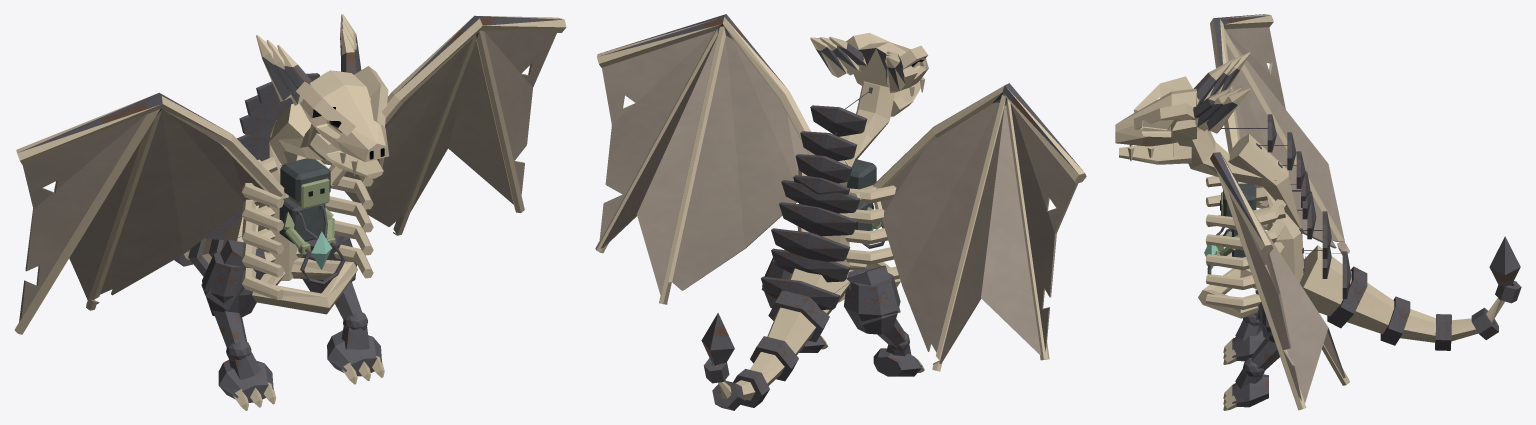
Rendered from host_40.glb.
The picture shows the model from 3 angles, left to right: view 1: azimuth 30°, elevation 25°; view 2: azimuth 150°, elevation 25°; view 3: azimuth 270°, elevation 25°; orthographic projection. The views are drawn at different scales.
Parts seen in each view (by area): view 1: ONE actual connected wyvern source anatomy TWO hind legs TWO, Source actual broad angular fitted thigh cap 1, ONE source necromancer compact connected tissue inside open , Necromancer real source dark hood, Necromancer inner source dark chest robe, Source ONE pale glowing chest-held crystal, Source actual transverse convex pointed neck armor 2, Source actual transverse convex pointed neck armor 3, Source actual transverse convex pointed neck armor 1, Source actual transverse convex pointed neck armor 0; view 2: ONE actual connected wyvern source anatomy TWO hind legs TWO, Source actual broad angular fitted thigh cap 1, Source actual curved pointed overlapping dorsal scale 3, Source actual curved pointed overlapping dorsal scale 2, Source actual curved pointed overlapping dorsal scale 4, Source actual curved pointed overlapping dorsal scale 1, Source actual transverse convex pointed neck armor 3, Source actual curved pointed overlapping dorsal scale 0, Source true fitted annular tail segment armor 0, Source actual transverse convex pointed neck armor 2, Source actual transverse convex pointed neck armor 1, Source true fitted annular tail segment armor 1 (+5 smaller); view 3: ONE actual connected wyvern source anatomy TWO hind legs TWO, Source true fitted annular tail segment armor 0, Source true fitted annular tail segment armor 1, Source true fitted annular tail segment armor 2, Source true fitted annular tail segment armor 3, Necromancer real source dark hood, Source actual curved pointed overlapping dorsal scale 2, Source actual curved pointed overlapping dorsal scale 0, Source true fitted annular tail segment armor 4.
Boxes of the visible parts, x1,y1,x2,y2 form: ONE actual connected wyvern source anatomy TWO hind legs TWO: (14, 14, 566, 410); Source actual broad angular fitted thigh cap 1: (202, 248, 265, 317); ONE source necromancer compact connected tissue inside open : (283, 178, 335, 254); Necromancer real source dark hood: (280, 158, 330, 202); Necromancer inner source dark chest robe: (279, 197, 325, 243); Source ONE pale glowing chest-held crystal: (296, 204, 331, 269); Source actual transverse convex pointed neck armor 2: (244, 95, 290, 120); Source actual transverse convex pointed neck armor 3: (256, 73, 319, 108); Source actual transverse convex pointed neck armor 1: (239, 115, 278, 138); Source actual transverse convex pointed neck armor 0: (237, 134, 269, 158); ONE actual connected wyvern source anatomy TWO hind legs TWO: (595, 14, 1086, 400); Source actual broad angular fitted thigh cap 1: (844, 268, 900, 334); Source actual curved pointed overlapping dorsal scale 3: (779, 202, 857, 236); Source actual curved pointed overlapping dorsal scale 2: (771, 228, 850, 261); Source actual curved pointed overlapping dorsal scale 4: (781, 180, 860, 213); Source actual curved pointed overlapping dorsal scale 1: (771, 248, 850, 282); Source actual transverse convex pointed neck armor 3: (810, 87, 872, 136); Source actual curved pointed overlapping dorsal scale 0: (761, 276, 852, 309); Source true fitted annular tail segment armor 0: (768, 290, 829, 342); Source actual transverse convex pointed neck armor 2: (800, 131, 856, 161); Source actual transverse convex pointed neck armor 1: (795, 154, 852, 183); Source true fitted annular tail segment armor 1: (750, 336, 798, 381); ONE actual connected wyvern source anatomy TWO hind legs TWO: (1115, 14, 1520, 410); Source true fitted annular tail segment armor 0: (1327, 266, 1367, 328); Source true fitted annular tail segment armor 1: (1380, 296, 1410, 345); Source true fitted annular tail segment armor 2: (1435, 314, 1451, 350); Source true fitted annular tail segment armor 3: (1471, 307, 1498, 339); Necromancer real source dark hood: (1223, 183, 1256, 216); Source actual curved pointed overlapping dorsal scale 2: (1299, 211, 1331, 258); Source actual curved pointed overlapping dorsal scale 0: (1303, 251, 1351, 298); Source true fitted annular tail segment armor 4: (1495, 281, 1521, 303).
Bounding box in the file's own units: 8.93 × 5.6 × 6.61.
22 materials, 19 textured.
